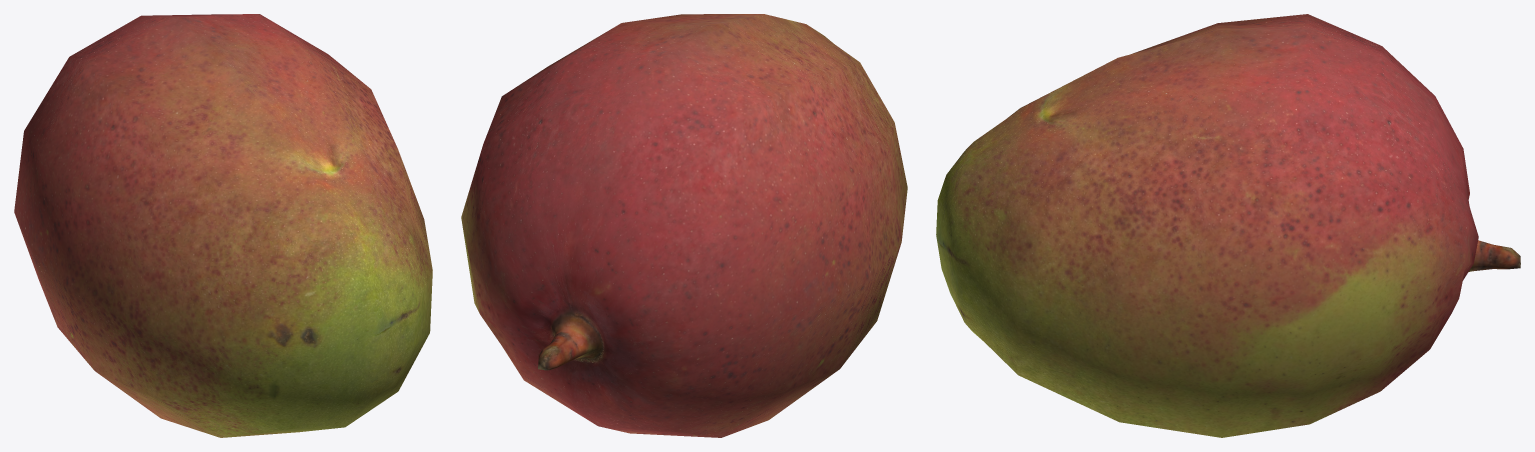
File: mango.fbx
3 views of the same model, side by side, from view 1: azimuth 30°, elevation 25°; view 2: azimuth 150°, elevation 25°; view 3: azimuth 270°, elevation 25° (orthographic). The views are drawn at different scales.
Parts seen in each view (by area): view 1: 1; view 2: 1; view 3: 1.
Boxes of the visible parts, bbox=[...] form: 1: bbox=[14, 14, 432, 437]; 1: bbox=[461, 14, 907, 437]; 1: bbox=[936, 14, 1520, 437].
Bounding box in the file's own units: 0.1427 × 0.1536 × 0.212.
